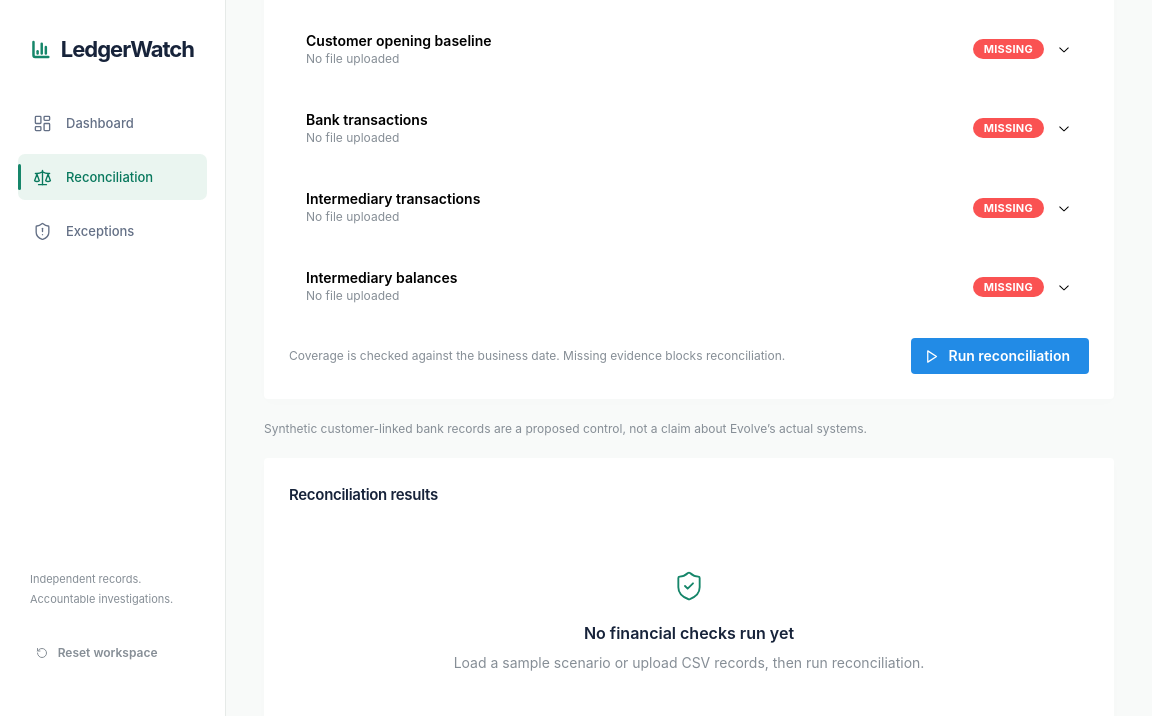
Test: connected reconciliation screen › shows Blocked for absent evidence rather than a successful result
(page scrolled)
Click the button "Run reconciliation". click: [1000, 356]
box: [910,338,1089,374]
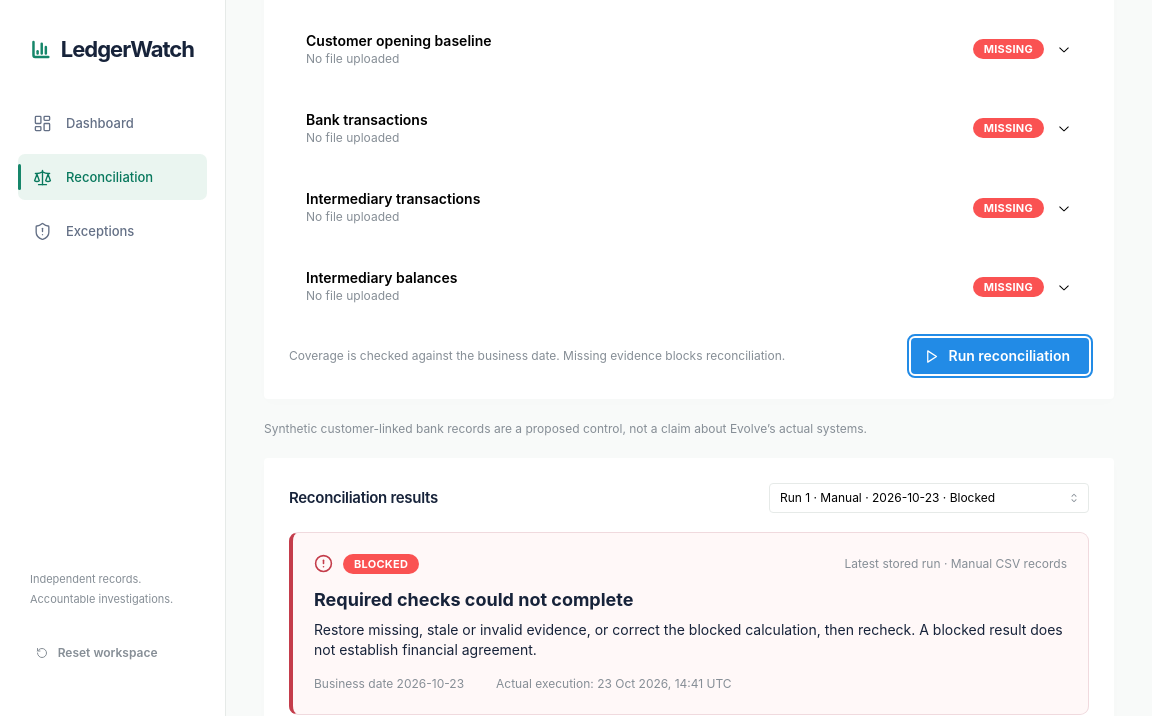
Expected: the text "Blocked" is shown, [354,555,408,573]
